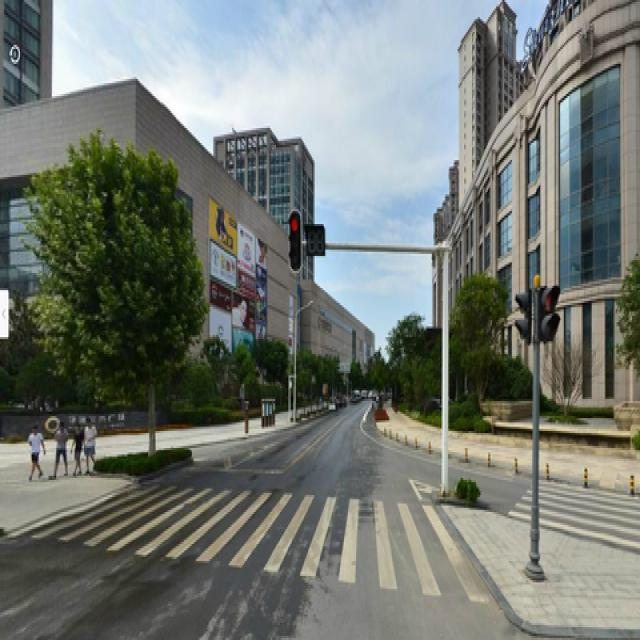meta: (33, 149, 172, 446)
